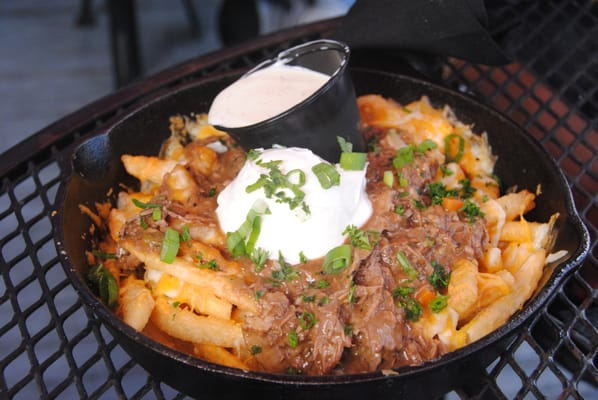curry: (392, 285, 422, 322)
sushi: (42, 30, 584, 381), (208, 39, 364, 162)
